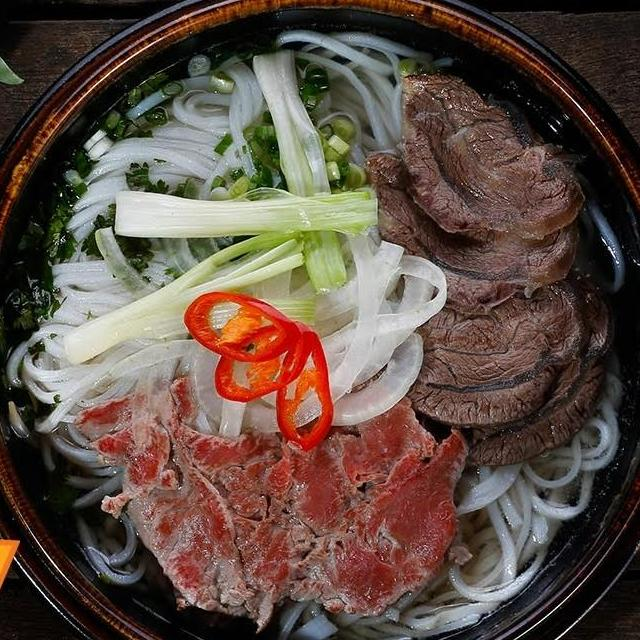banh pho: (438, 388, 621, 624), (2, 244, 185, 476), (60, 50, 267, 248), (264, 21, 435, 190), (272, 590, 507, 640)
pho bo: (0, 0, 640, 640)
thit bo: (64, 370, 481, 636), (374, 255, 619, 430), (362, 144, 583, 320), (388, 64, 593, 248), (424, 286, 615, 472)
